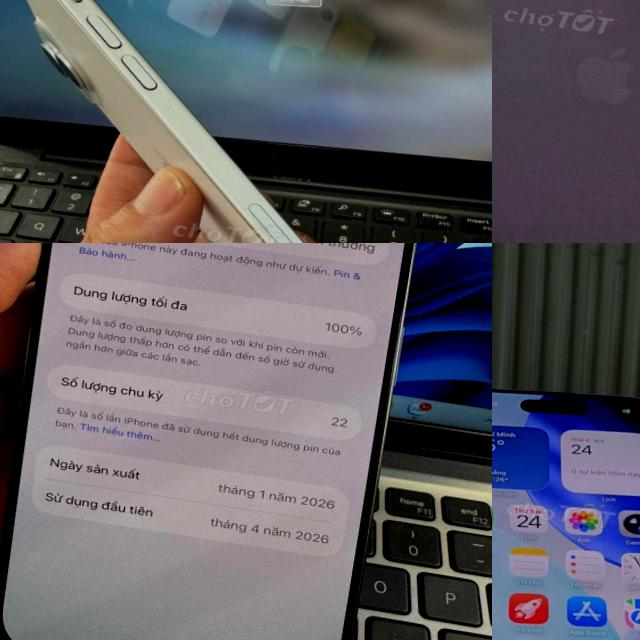gen_14: (492, 0, 640, 243)
gen_15: (0, 0, 483, 243)
gen_17: (0, 243, 433, 640), (492, 365, 640, 640)
